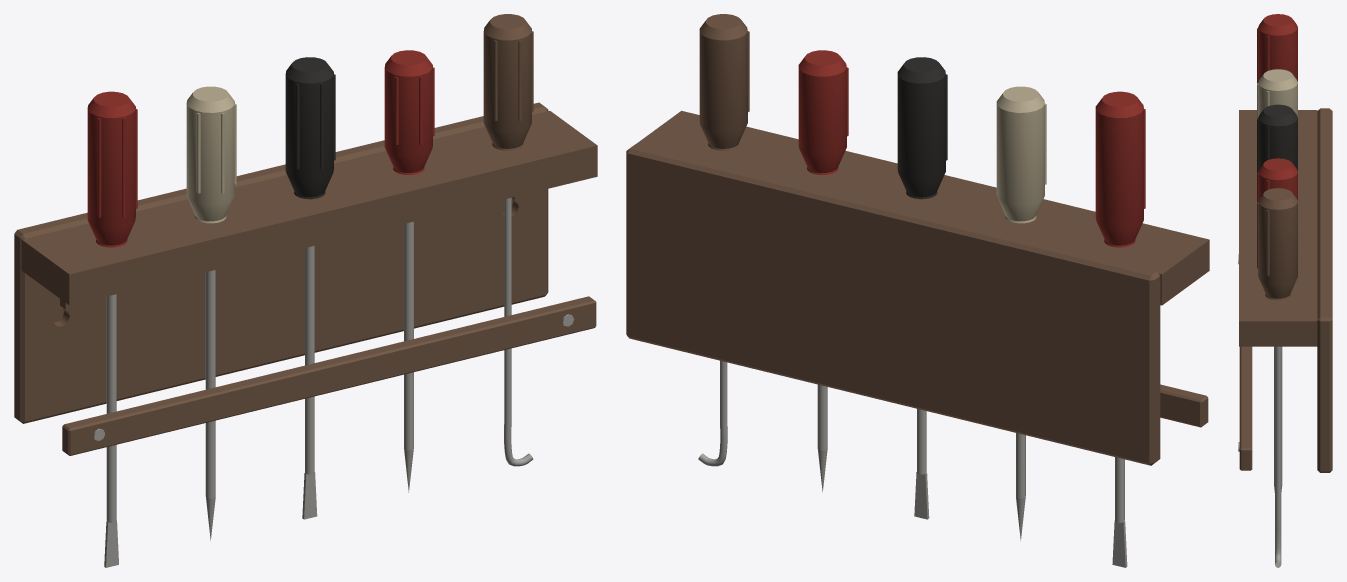
File: screwdriver-rack-0f71b1d23470.glb
3 views of the same model, side by side, from view 1: azimuth 30°, elevation 25°; view 2: azimuth 150°, elevation 25°; view 3: azimuth 270°, elevation 25° (orthographic). The views are drawn at different scales.
Visible parts, largest first — view 1: wood, enamel-red, brushed, plastic-dark, enamel-beige; view 2: wood, enamel-red, plastic-dark, enamel-beige, brushed; view 3: wood, enamel-red, plastic-dark, brushed, enamel-beige.
Part boxes in pixels (x1=…): wood: x1=14, y1=14, x2=597, y2=455; enamel-red: x1=87, y1=50, x2=434, y2=247; brushed: x1=93, y1=197, x2=573, y2=567; plastic-dark: x1=285, y1=57, x2=335, y2=199; enamel-beige: x1=186, y1=86, x2=236, y2=223; wood: x1=626, y1=14, x2=1209, y2=465; enamel-red: x1=798, y1=50, x2=1145, y2=247; plastic-dark: x1=897, y1=57, x2=947, y2=199; enamel-beige: x1=996, y1=86, x2=1046, y2=223; brushed: x1=698, y1=360, x2=1127, y2=567; wood: x1=1239, y1=108, x2=1332, y2=472; enamel-red: x1=1257, y1=14, x2=1297, y2=202; plastic-dark: x1=1257, y1=104, x2=1297, y2=172; brushed: x1=1238, y1=254, x2=1282, y2=567; enamel-beige: x1=1257, y1=69, x2=1297, y2=118.
Bounding box in the file's own units: 0.32 × 0.27 × 0.0605.
